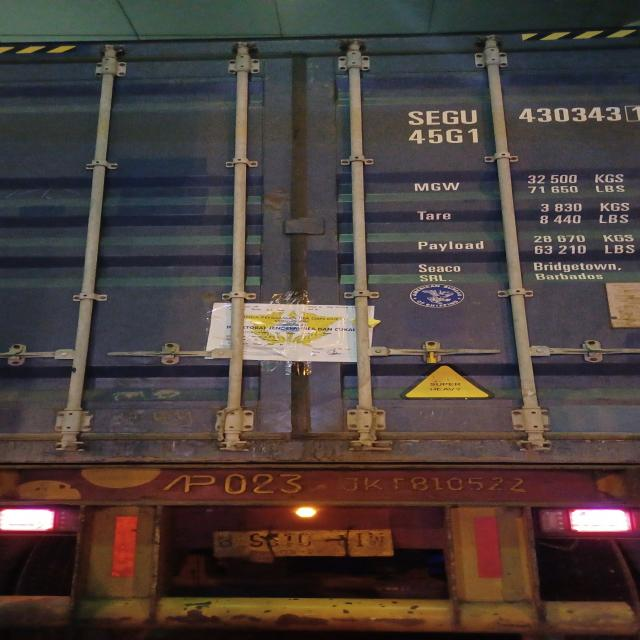seal: (419, 344, 441, 365)
